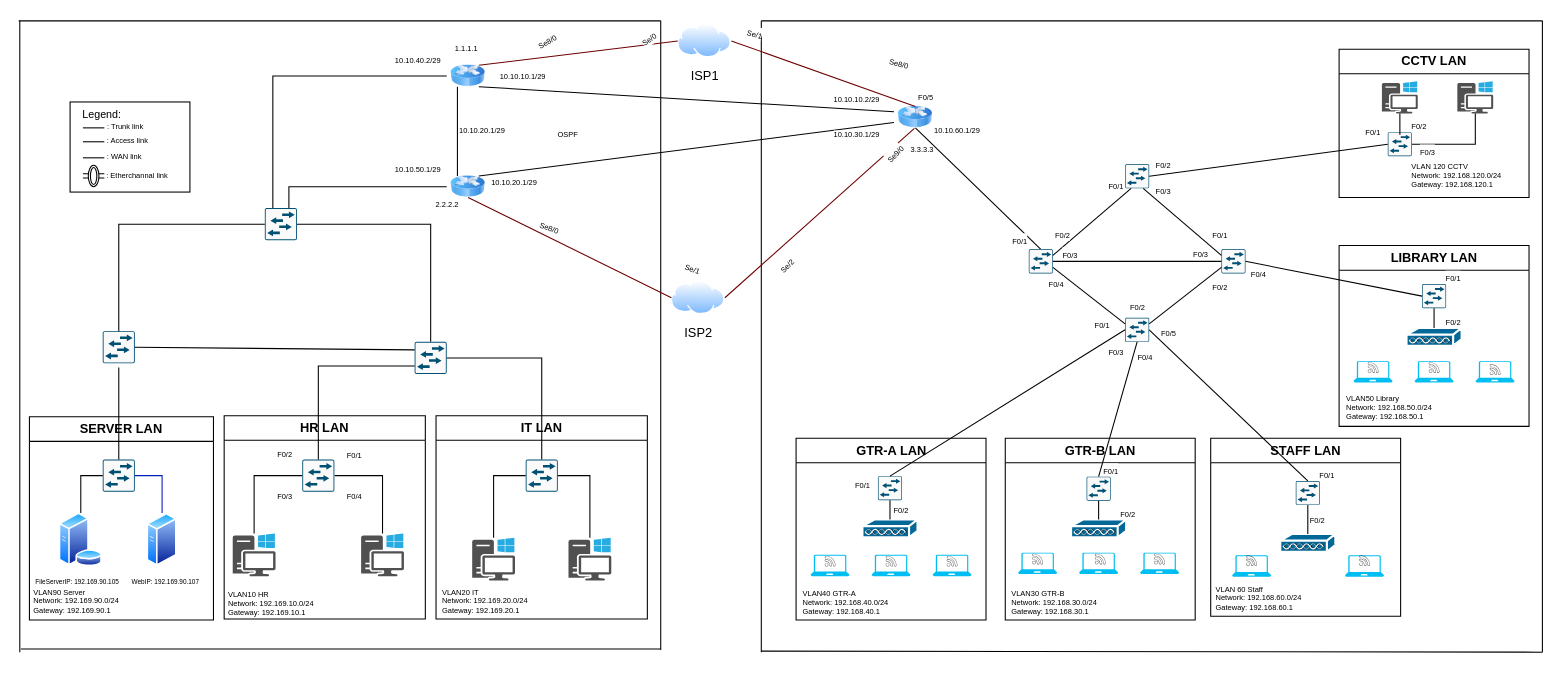
Image size: 1562x673. Some labels were removed from this diagram. The centre of each missing label's shape, as x and y in pixels:
"BRANCH OFFICE IP: 192.168.0.0/24" belongs at point (1163, 43).
"HEAD OFFICE IP: 192.169.0.0/24" belongs at point (93, 42).
